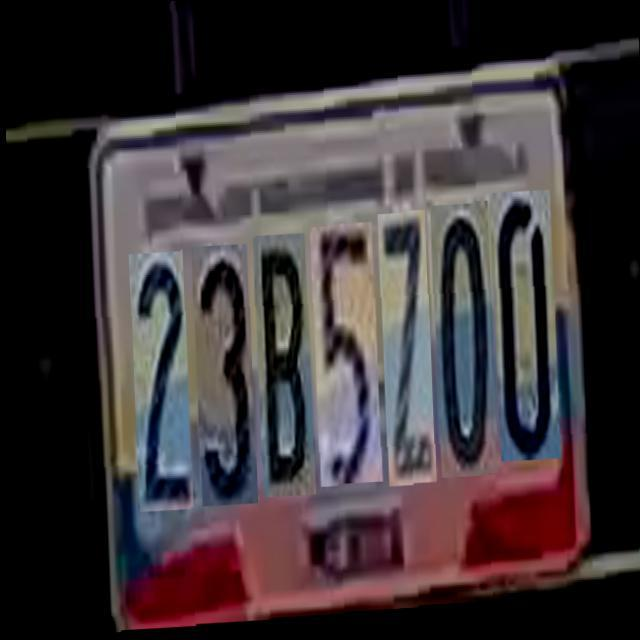0: (487, 195, 555, 466)
2: (126, 242, 186, 502)
3: (188, 238, 251, 500)
5: (306, 222, 376, 484)
B: (250, 230, 310, 493)
O: (428, 205, 492, 480)
Z: (374, 212, 430, 486)
